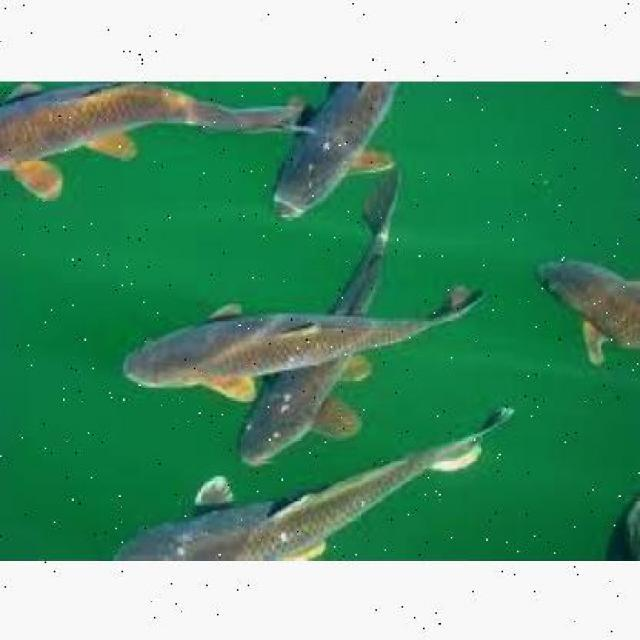ikan-mas: (230, 170, 410, 467), (109, 438, 509, 558), (110, 282, 484, 396), (528, 240, 638, 363)
